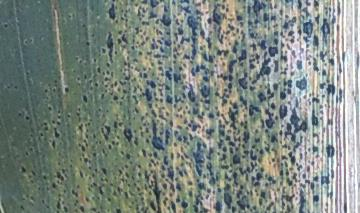tarspot: (251, 52, 271, 88), (186, 14, 199, 63), (212, 2, 226, 47), (288, 108, 308, 133), (191, 140, 204, 177), (149, 120, 163, 152), (151, 176, 163, 212), (205, 159, 221, 185), (224, 108, 240, 132), (213, 22, 228, 47), (292, 75, 310, 93), (300, 17, 316, 37), (105, 30, 114, 65), (221, 192, 236, 213), (280, 192, 295, 213), (296, 188, 308, 213), (249, 1, 267, 17), (186, 80, 198, 104), (320, 17, 330, 45), (229, 151, 245, 168), (157, 12, 174, 28), (237, 71, 250, 90), (105, 1, 117, 21), (247, 103, 263, 118), (98, 124, 112, 141), (225, 58, 238, 76), (264, 112, 275, 133), (163, 125, 173, 148), (162, 92, 175, 109), (288, 149, 299, 169), (122, 126, 134, 143), (199, 82, 211, 99), (309, 109, 319, 129), (268, 44, 279, 62), (287, 153, 300, 168), (241, 129, 253, 145), (200, 52, 216, 64), (147, 1, 166, 11), (279, 103, 290, 120), (318, 173, 331, 187), (189, 122, 204, 134), (325, 143, 335, 160), (213, 198, 224, 213), (336, 87, 345, 105), (48, 137, 60, 150), (204, 125, 216, 138), (17, 162, 28, 176), (69, 186, 80, 200), (265, 199, 276, 213), (293, 58, 304, 72), (282, 77, 293, 91), (215, 48, 229, 59), (259, 115, 267, 134), (229, 39, 239, 54), (279, 48, 289, 63), (311, 53, 318, 74), (311, 34, 320, 50), (220, 96, 229, 112), (175, 95, 187, 107), (247, 30, 259, 42), (50, 127, 63, 138), (54, 168, 65, 181), (110, 118, 121, 131), (255, 196, 266, 209), (165, 66, 173, 83), (101, 165, 110, 180), (257, 89, 266, 104), (79, 93, 91, 104), (154, 27, 165, 39), (276, 91, 288, 102), (129, 93, 140, 105), (340, 200, 350, 213), (311, 129, 321, 142), (319, 67, 329, 80), (218, 162, 231, 172), (249, 41, 259, 54), (236, 95, 249, 105), (188, 64, 196, 80), (207, 144, 214, 162), (150, 106, 159, 120), (225, 82, 234, 96), (310, 94, 321, 105), (268, 134, 279, 145), (287, 131, 298, 142), (189, 106, 200, 117), (62, 84, 74, 94), (222, 180, 232, 192), (144, 87, 151, 104), (162, 154, 171, 167), (169, 200, 178, 213), (333, 20, 342, 33), (98, 89, 107, 102), (196, 181, 207, 191), (311, 193, 321, 204), (326, 56, 337, 66), (316, 80, 327, 90), (279, 141, 289, 152), (267, 100, 278, 110), (246, 57, 257, 67), (226, 22, 237, 32), (295, 1, 305, 12), (143, 47, 153, 58), (18, 201, 27, 213), (311, 143, 320, 155), (166, 181, 175, 193), (270, 79, 279, 91), (157, 44, 166, 56), (143, 168, 150, 183), (141, 146, 149, 159), (121, 34, 129, 47), (340, 48, 346, 65), (287, 28, 297, 38), (122, 162, 132, 172), (78, 202, 87, 213), (89, 202, 98, 213), (94, 64, 103, 75), (277, 168, 286, 179), (182, 166, 191, 177), (132, 25, 143, 34), (268, 14, 279, 23), (301, 36, 312, 45), (325, 189, 334, 200), (196, 30, 207, 39), (207, 109, 214, 123), (294, 95, 301, 109), (51, 180, 59, 192), (97, 185, 105, 197), (146, 80, 158, 88), (252, 137, 264, 145), (272, 63, 280, 75), (28, 167, 38, 176), (133, 106, 142, 116), (190, 204, 200, 213), (251, 180, 261, 189), (237, 183, 246, 193), (205, 16, 214, 26), (163, 108, 172, 118), (252, 17, 262, 26), (142, 34, 152, 43), (326, 117, 334, 128), (54, 197, 61, 209), (136, 46, 143, 58), (282, 64, 289, 76), (64, 112, 73, 121), (78, 142, 87, 151), (76, 122, 85, 131), (141, 71, 150, 80), (185, 179, 194, 188), (215, 186, 224, 195), (309, 159, 318, 168), (11, 82, 20, 91), (278, 121, 287, 130), (41, 87, 51, 95), (42, 125, 52, 133), (41, 173, 49, 183), (76, 171, 86, 179), (91, 81, 101, 89), (299, 172, 307, 182), (261, 181, 271, 189), (311, 1, 321, 9), (142, 110, 150, 120), (113, 49, 121, 59), (51, 77, 62, 84), (46, 103, 53, 114), (114, 28, 125, 35), (200, 206, 211, 213), (258, 146, 265, 157), (214, 72, 225, 79), (163, 179, 168, 194), (99, 46, 107, 55), (83, 39, 91, 48), (80, 21, 88, 30), (111, 94, 120, 102), (125, 152, 134, 160), (116, 34, 122, 46), (124, 74, 132, 83), (90, 131, 98, 140), (180, 200, 188, 209), (286, 177, 292, 189), (133, 1, 141, 10), (220, 143, 228, 152), (212, 90, 221, 98), (149, 60, 158, 68), (15, 111, 25, 118), (223, 171, 230, 181), (176, 134, 183, 144), (175, 28, 185, 35), (176, 181, 182, 192), (231, 170, 237, 181), (117, 79, 125, 87), (138, 130, 146, 138), (121, 191, 129, 199), (74, 111, 82, 119), (226, 74, 234, 82), (175, 64, 183, 72), (259, 189, 266, 198), (231, 204, 238, 213), (178, 170, 185, 179), (259, 166, 266, 175), (243, 147, 250, 156), (235, 14, 244, 21), (305, 59, 312, 68), (271, 30, 280, 37), (222, 4, 229, 13), (172, 17, 179, 26), (104, 68, 111, 77), (40, 195, 46, 205), (211, 187, 217, 197), (42, 120, 50, 127), (114, 206, 122, 213), (105, 143, 113, 150), (271, 156, 279, 163), (3, 21, 9, 30), (183, 51, 189, 60), (276, 13, 289, 17), (83, 71, 88, 81), (136, 170, 141, 180), (92, 55, 97, 65), (82, 156, 89, 163), (104, 196, 111, 203), (135, 185, 142, 192), (179, 84, 186, 91), (136, 162, 142, 170), (24, 70, 32, 76), (288, 38, 296, 44), (91, 150, 96, 159), (283, 1, 292, 6), (117, 167, 124, 173), (92, 167, 99, 173), (170, 1, 175, 9), (246, 202, 251, 209), (178, 1, 187, 2)
